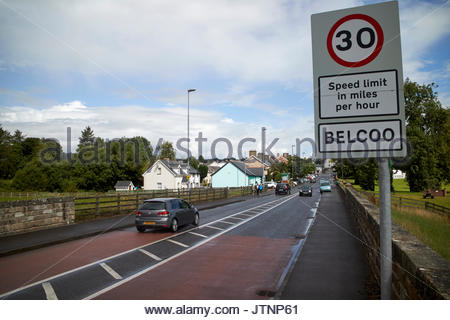speed_limit_30: (327, 14, 385, 68)
